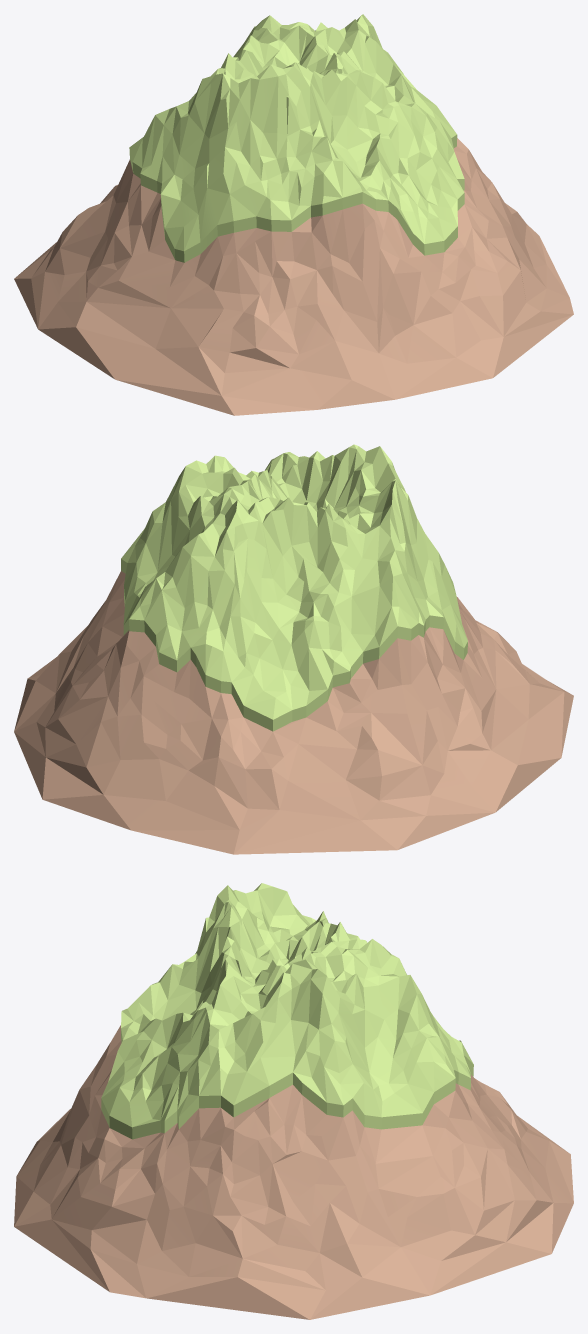
File: forest_mountain_moss_02.glb
The picture shows the model from 3 angles, top to bottom: view 1: azimuth 30°, elevation 25°; view 2: azimuth 150°, elevation 25°; view 3: azimuth 270°, elevation 25°; orthographic projection. The views are drawn at different scales.
Visible parts, largest first — view 1: PP_Forest_Mountain_Moss_02.002; view 2: PP_Forest_Mountain_Moss_02.002; view 3: PP_Forest_Mountain_Moss_02.002.
Boxes of the visible parts, x1=… form: PP_Forest_Mountain_Moss_02.002: x1=14, y1=14, x2=573, y2=415; PP_Forest_Mountain_Moss_02.002: x1=14, y1=444, x2=573, y2=854; PP_Forest_Mountain_Moss_02.002: x1=14, y1=883, x2=573, y2=1319.
Bounding box in the file's own units: 20.14 × 10.97 × 19.75.
